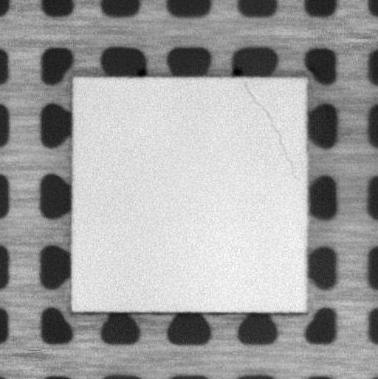DIE_CRACK: (244, 85, 297, 181)
